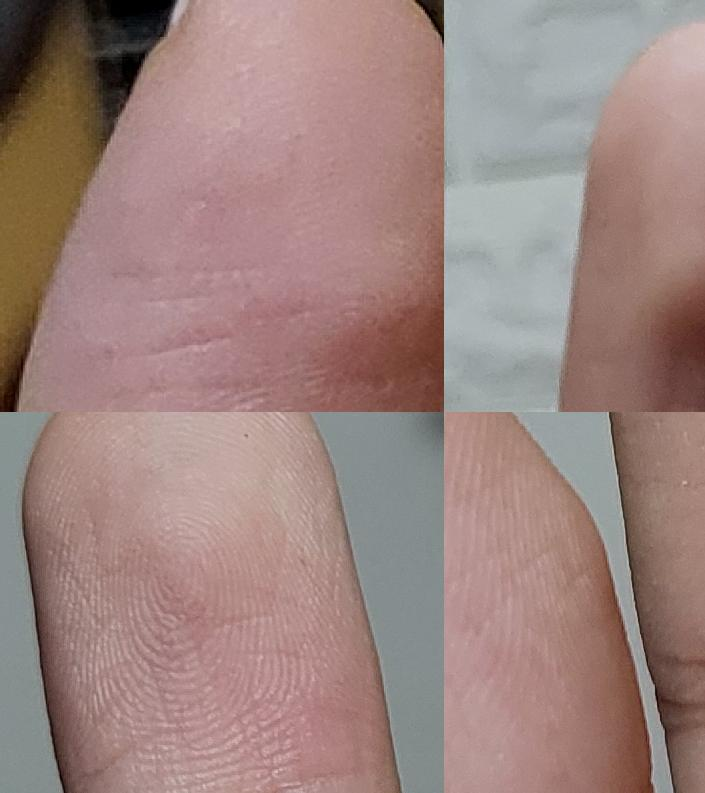Fingerprints: (16, 1, 444, 411), (21, 412, 399, 793), (444, 412, 653, 793), (558, 18, 705, 412)
